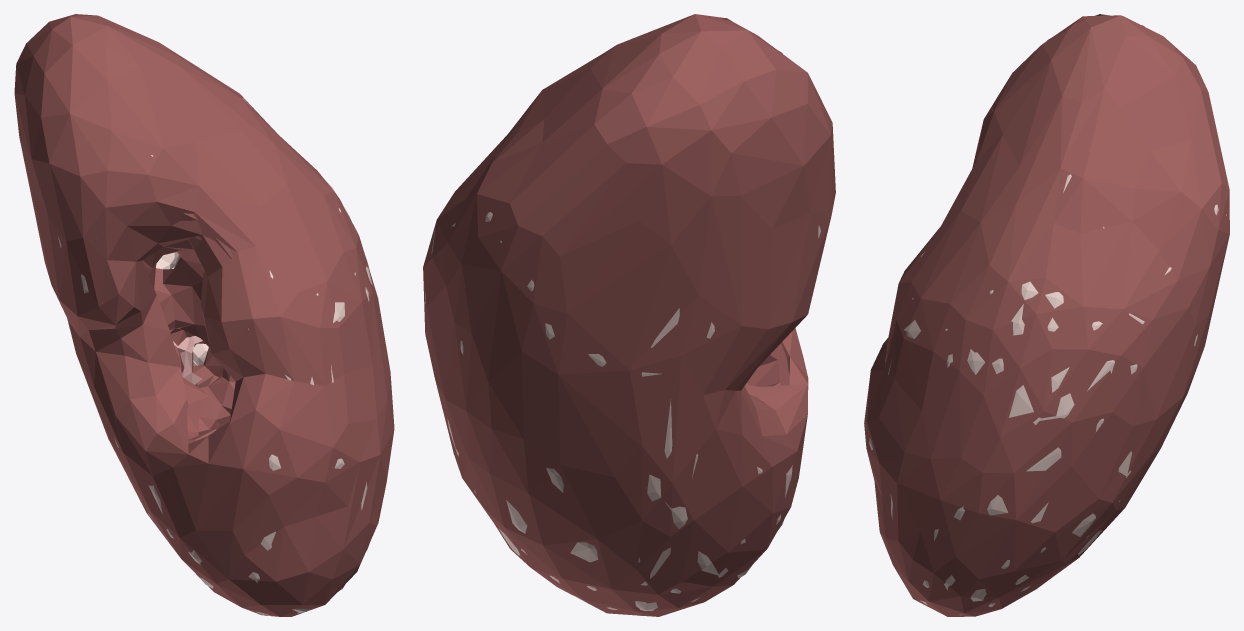
The model's file is VH_F_Kidney_L_0.1.glb.
The picture shows the model from 3 angles, left to right: view 1: azimuth 30°, elevation 25°; view 2: azimuth 150°, elevation 25°; view 3: azimuth 270°, elevation 25°; orthographic projection. The views are drawn at different scales.
Visible parts, largest first — view 1: VH_F_kidney_capsule_L, VH_F_hilum_of_kidney_L, VH_F_outer_cortex_of_kidney_L, VH_F_renal_pyramid_L_g, VH_F_renal_column_L; view 2: VH_F_kidney_capsule_L, VH_F_outer_cortex_of_kidney_L, VH_F_hilum_of_kidney_L; view 3: VH_F_kidney_capsule_L, VH_F_outer_cortex_of_kidney_L.
Boxes of the visible parts, bbox=[...] form: VH_F_kidney_capsule_L: bbox=[14, 14, 394, 616]; VH_F_hilum_of_kidney_L: bbox=[95, 178, 235, 443]; VH_F_outer_cortex_of_kidney_L: bbox=[57, 98, 372, 616]; VH_F_renal_pyramid_L_g: bbox=[173, 336, 202, 385]; VH_F_renal_column_L: bbox=[156, 252, 208, 366]; VH_F_kidney_capsule_L: bbox=[423, 14, 835, 616]; VH_F_outer_cortex_of_kidney_L: bbox=[425, 144, 820, 615]; VH_F_hilum_of_kidney_L: bbox=[744, 343, 789, 416]; VH_F_kidney_capsule_L: bbox=[864, 14, 1229, 616]; VH_F_outer_cortex_of_kidney_L: bbox=[869, 110, 1226, 615].
Size of the model in its own units: 0.0735 by 0.1252 by 0.0777.
